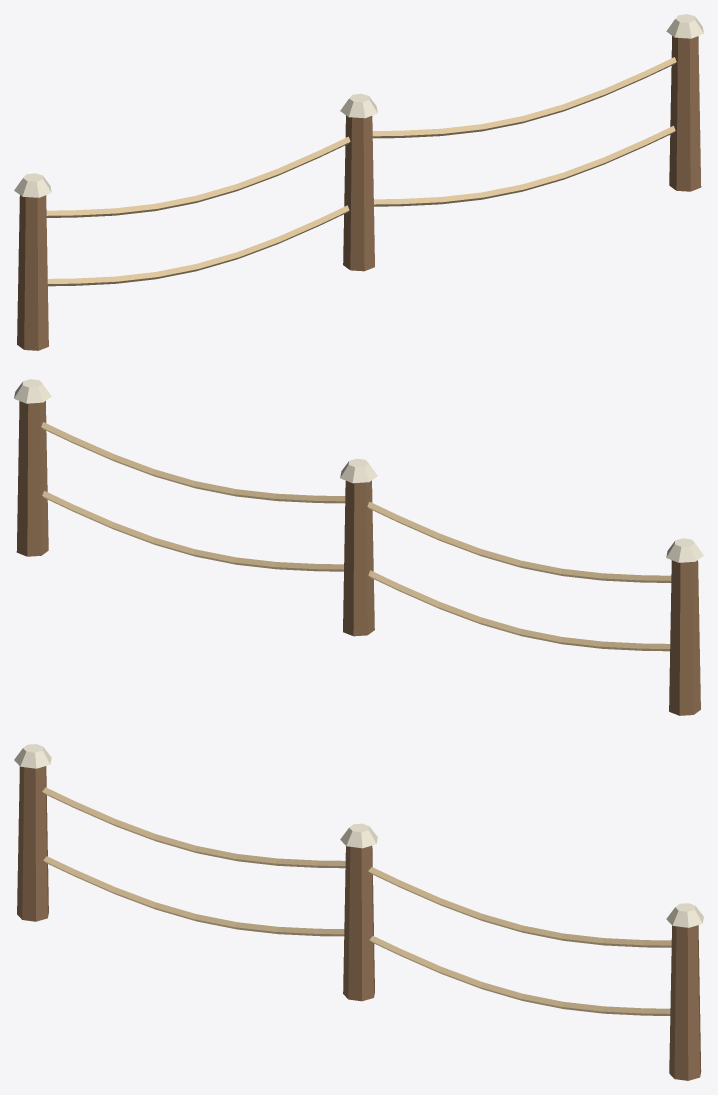
Rendered from rope-fence.glb.
3 views of the same model, one above another, from view 1: azimuth 30°, elevation 25°; view 2: azimuth 150°, elevation 25°; view 3: azimuth 330°, elevation 25° (orthographic).
Visible parts, largest first — view 1: rope-fence; view 2: rope-fence; view 3: rope-fence.
Part boxes in pixels (x1,y1,x2,y2): rope-fence: [14, 14, 703, 350]; rope-fence: [14, 379, 703, 715]; rope-fence: [14, 744, 703, 1080].
Bounding box in the file's own units: 5.25 × 1.22 × 0.2535.
